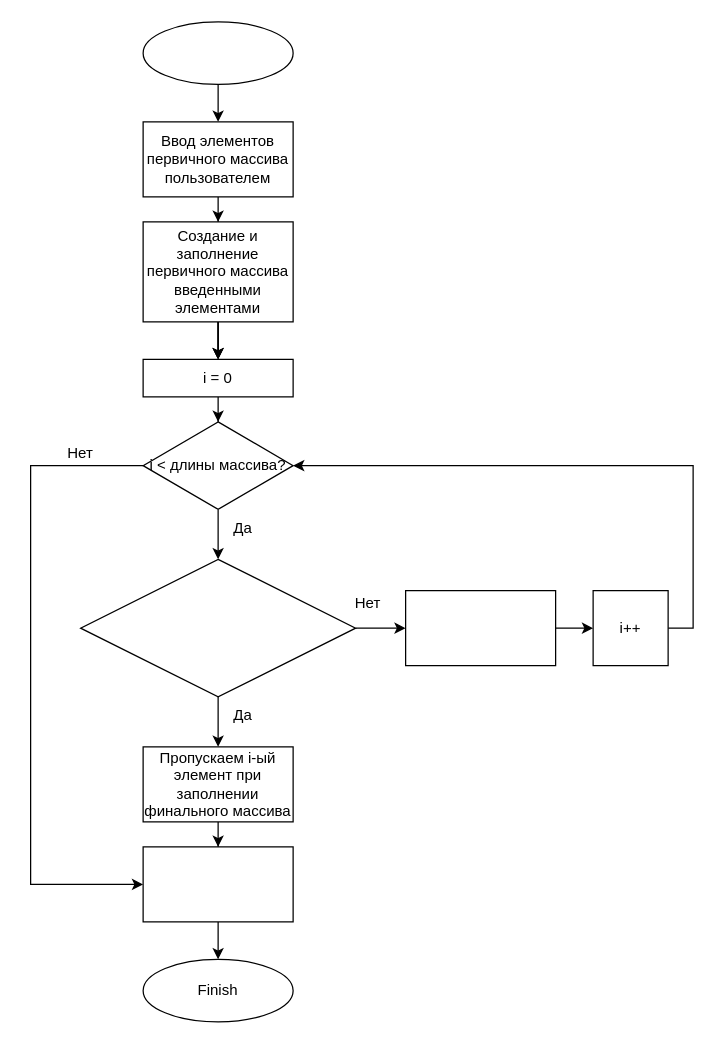
The diagram is 725 pixels wide and 1044 high, and some of its shapes have lost their labels. The box of each missing label's shape, as (x1, y1, x2, y2) in pixels:
i-тый элемент массива имеет длину больше трех знаков?: (79, 558, 356, 697)
Вывод финального массива: (142, 846, 293, 922)
Записываем i-ый элемент в финальный массив: (404, 589, 556, 666)
Старт: (142, 21, 293, 84)
